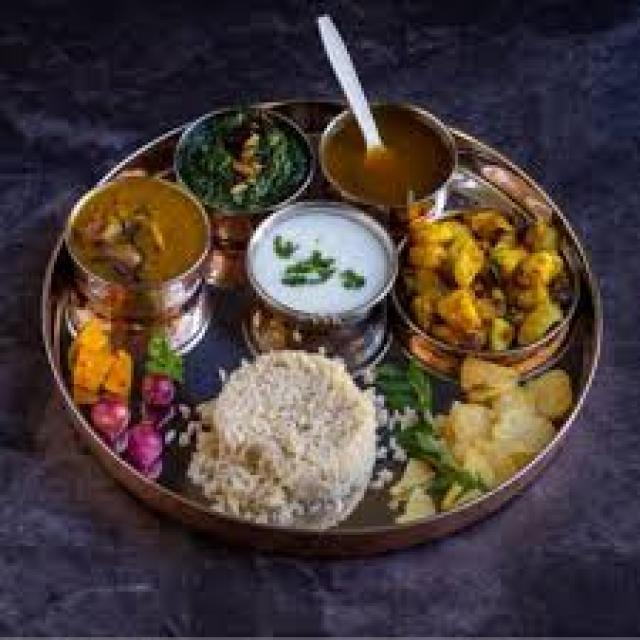curd: (236, 200, 404, 330)
dal: (58, 169, 213, 300), (317, 100, 457, 214)
rice: (194, 345, 384, 530)
sambar-rasam: (318, 100, 460, 212)
sweet: (61, 325, 135, 410)
